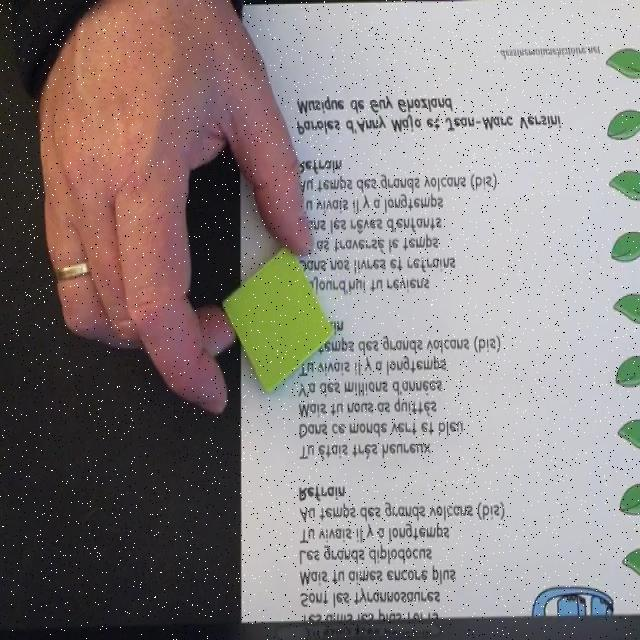square: (222, 246, 334, 393)
